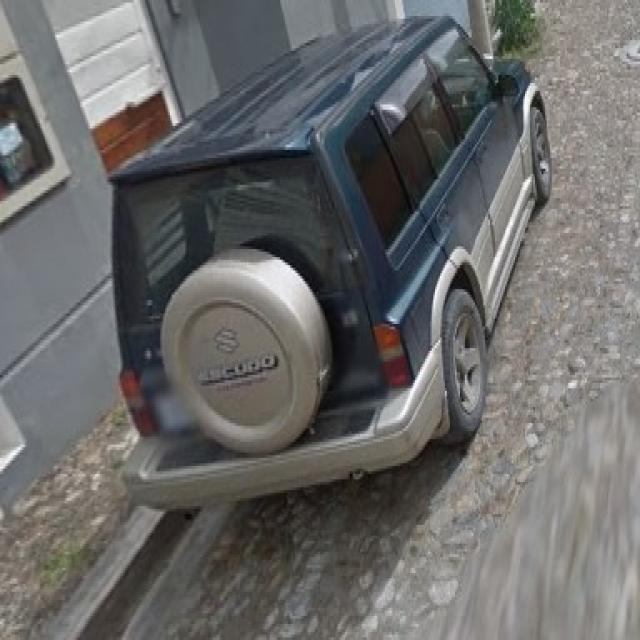cars: (108, 14, 550, 486)
